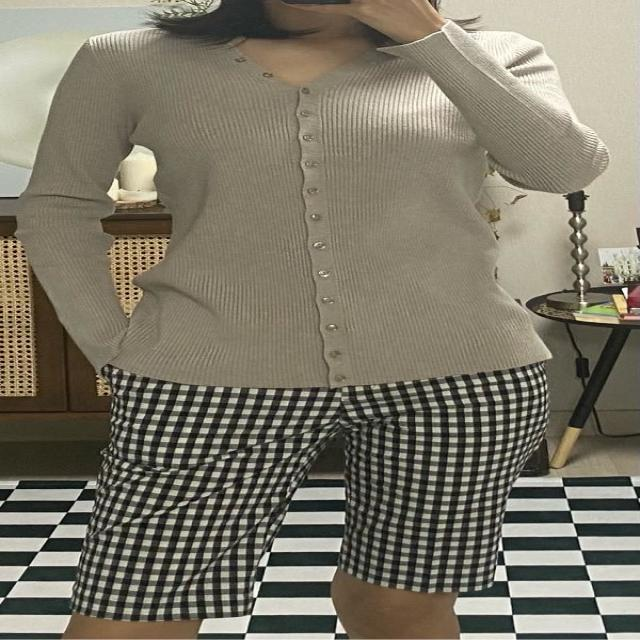cardigan: (18, 14, 612, 390)
shortpants: (69, 342, 551, 626)
